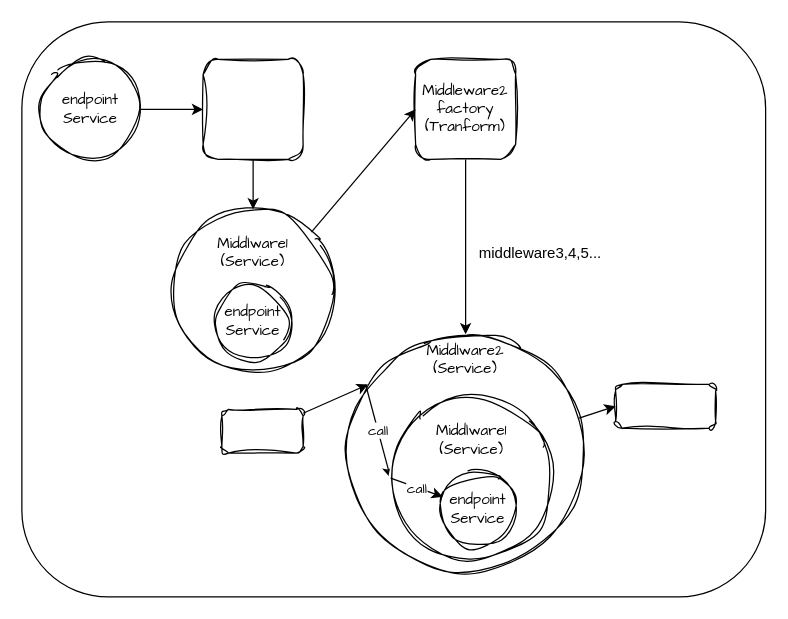
Image size: 788x619. Some labels were removed from this diagram. Each missing label, with the box of its shape:
Middleware1 factory (Tranform): (202, 58, 303, 159)
Request: (221, 408, 303, 453)
Response: (614, 383, 716, 428)
